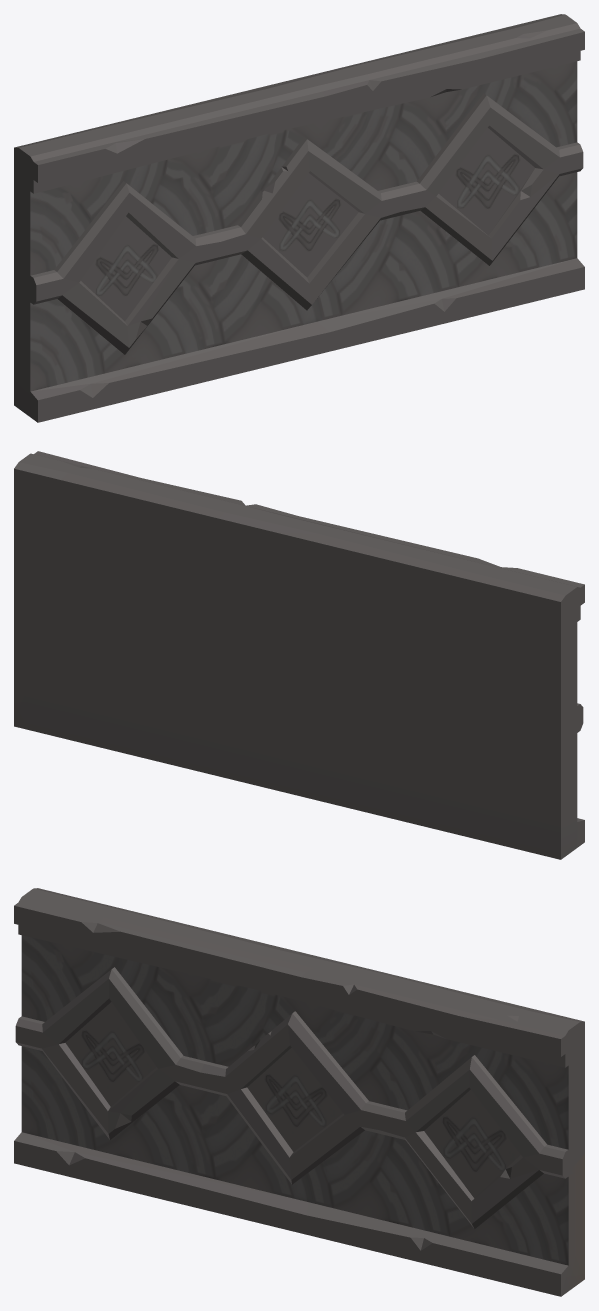
Rendered from SM_Bld_Stone_Wall_01.fbx.
3 renders of one model, top to bottom at view 1: azimuth 30°, elevation 25°; view 2: azimuth 150°, elevation 25°; view 3: azimuth 330°, elevation 25°, orthographic.
Visible parts, largest first — view 1: SM_Bld_Stone_Wall_01; view 2: SM_Bld_Stone_Wall_01; view 3: SM_Bld_Stone_Wall_01.
Boxes of the visible parts, x1,y1,x2,y2 form: SM_Bld_Stone_Wall_01: (14,14,584,422); SM_Bld_Stone_Wall_01: (14,451,584,859); SM_Bld_Stone_Wall_01: (14,888,584,1296).
Size of the model in its own units: 1000 by 456 by 76.17.
